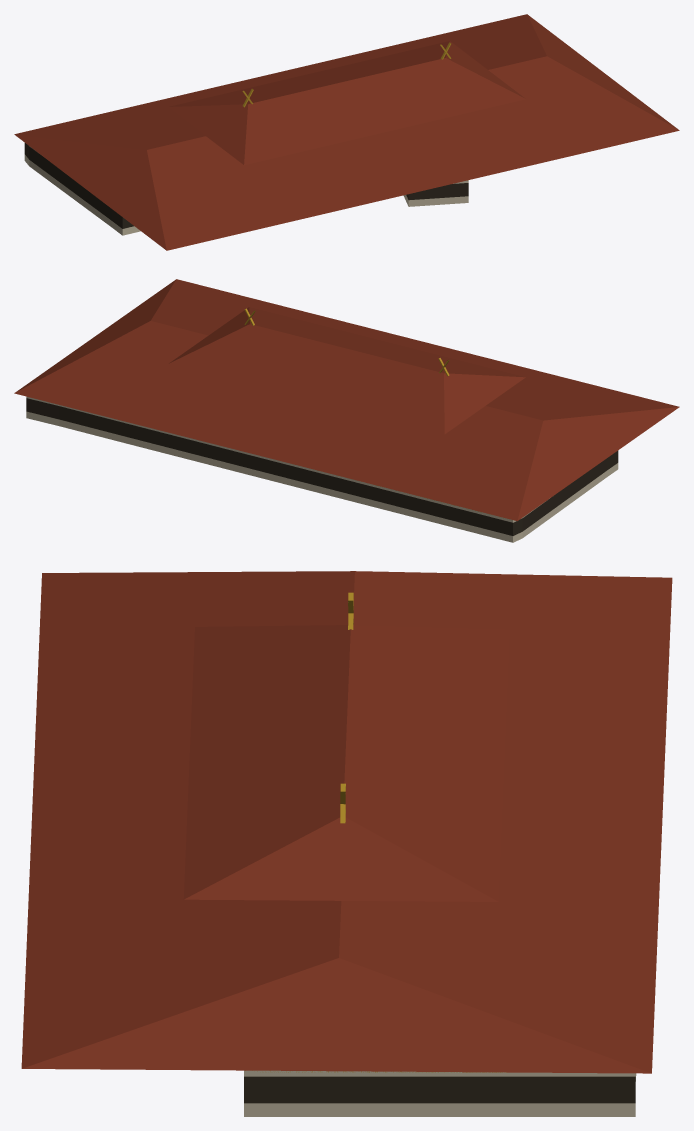
File: balai-adat-melayu-riau-lod0.glb
The picture shows the model from 3 angles, top to bottom: view 1: azimuth 30°, elevation 25°; view 2: azimuth 150°, elevation 25°; view 3: azimuth 270°, elevation 25°; orthographic projection. The views are drawn at different scales.
Visible parts, largest first — view 1: balai-adat-melayu-riau_LOD0; view 2: balai-adat-melayu-riau_LOD0; view 3: balai-adat-melayu-riau_LOD0.
Part boxes in pixels (<box>): balai-adat-melayu-riau_LOD0: <box>14,14,679,250</box>; balai-adat-melayu-riau_LOD0: <box>14,279,679,542</box>; balai-adat-melayu-riau_LOD0: <box>21,571,672,1116</box>.
Size of the model in its own units: 146 by 24.84 by 80.26.
